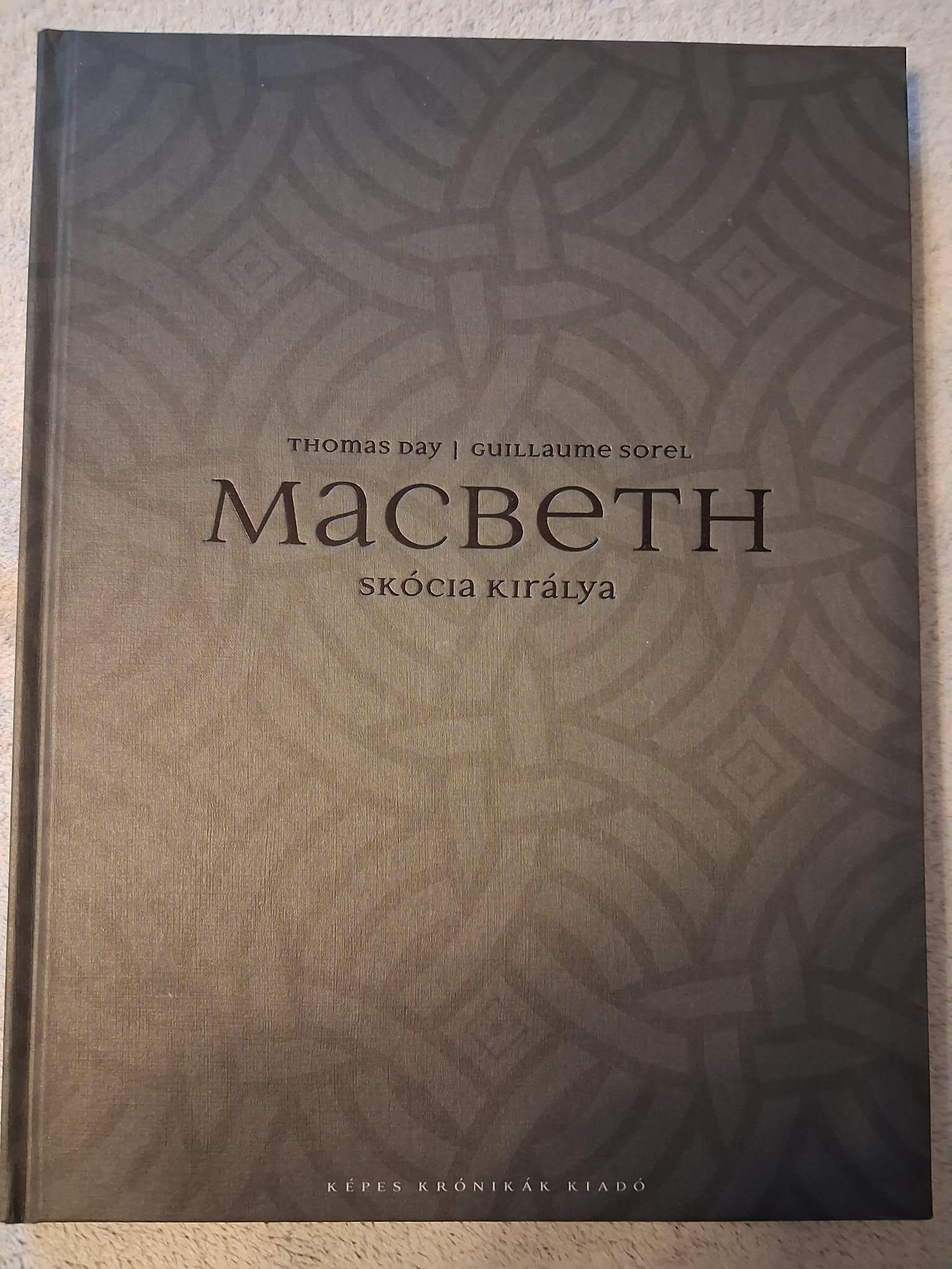comic: (2, 33, 930, 1220)
